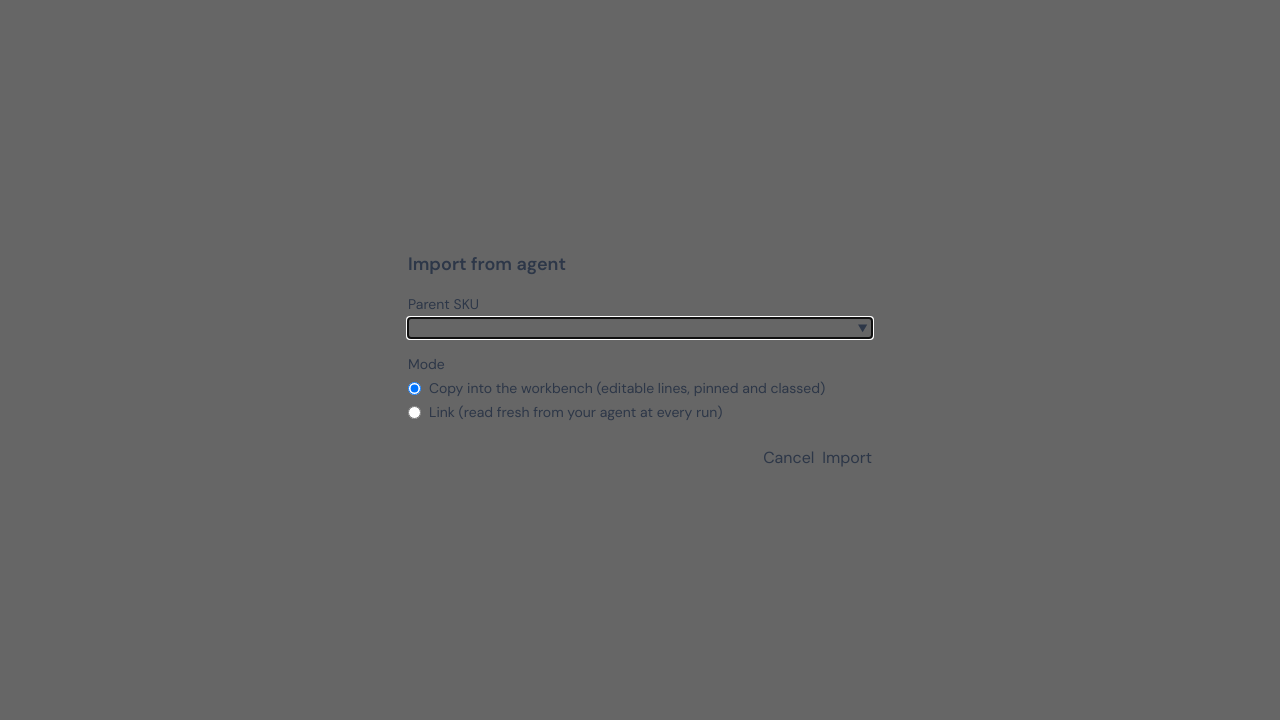
Test case: ImportAgentDialog › shows the server message and creates nothing for a 422 agent_bom_not_found (a-G4: error.message must render)
Type "METCON-CROSS-IRON" into the field labelled "Parent SKU" at (640, 328), box [408, 318, 872, 338]
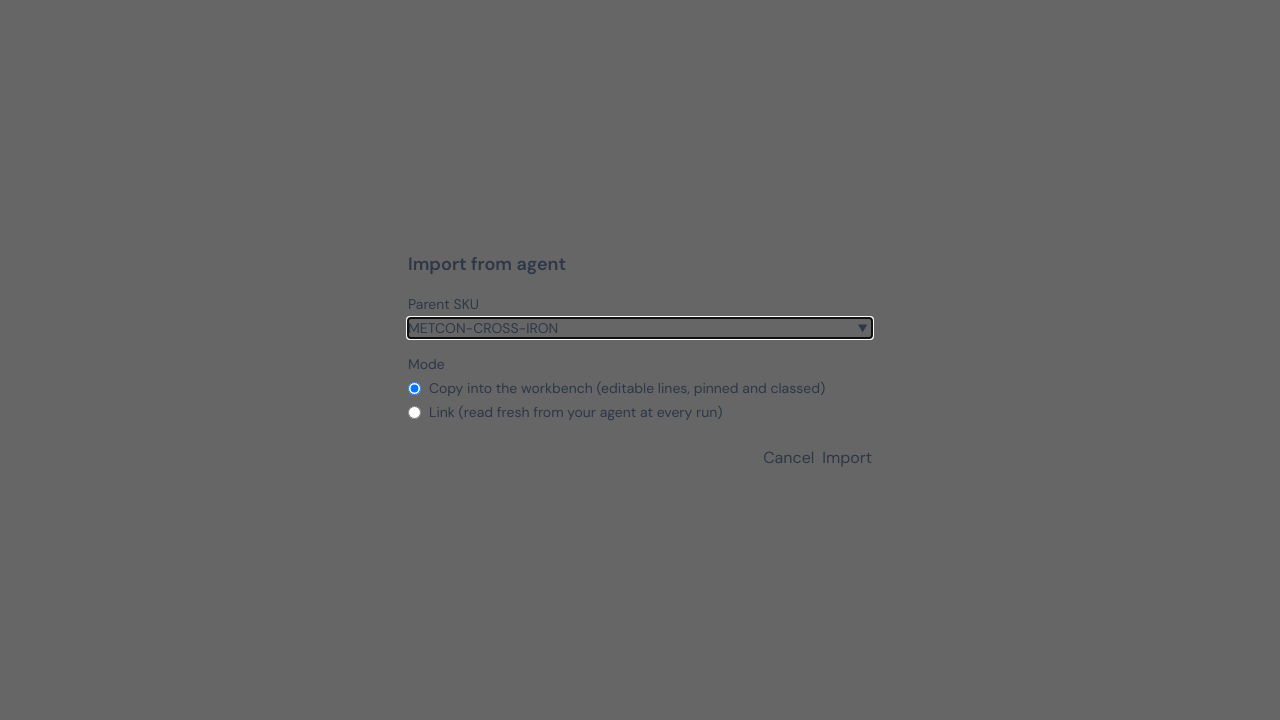
Click the button "Import" at (847, 458), box [822, 446, 872, 470]
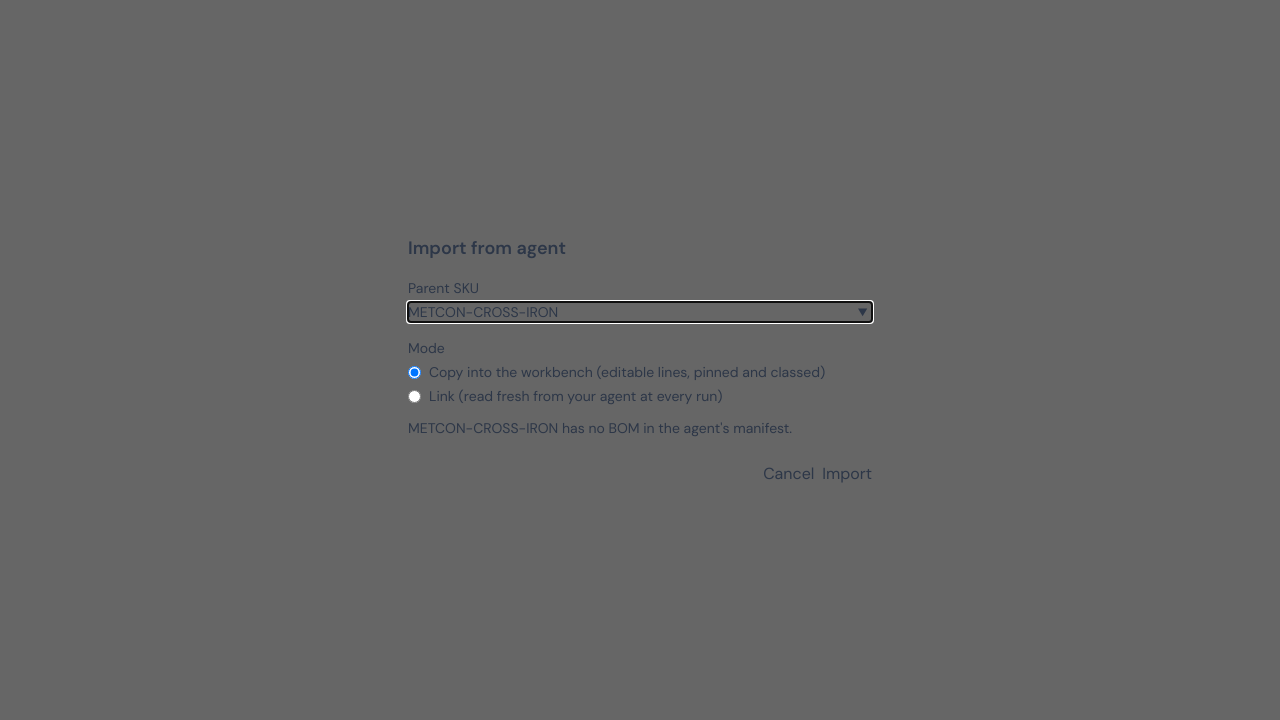
Result: the message reads "METCON-CROSS-IRON has no BOM in the agent's manifest." at [408, 419, 792, 437]
